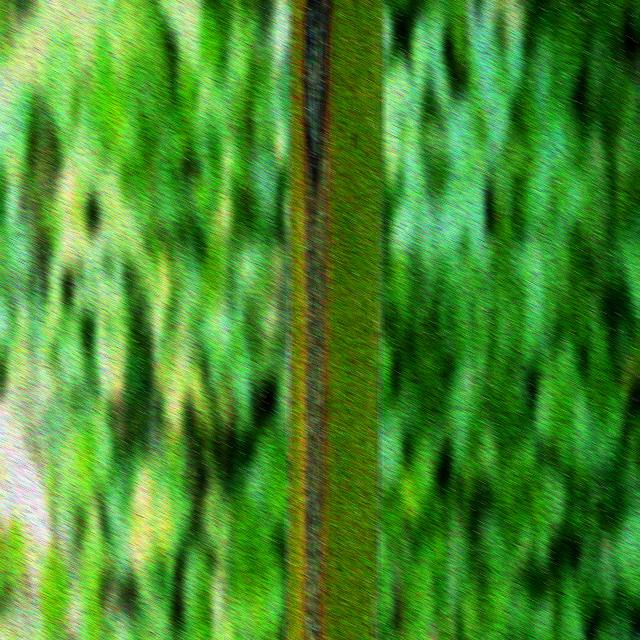LEAF BLAST: (302, 0, 331, 640), (304, 0, 329, 178)
